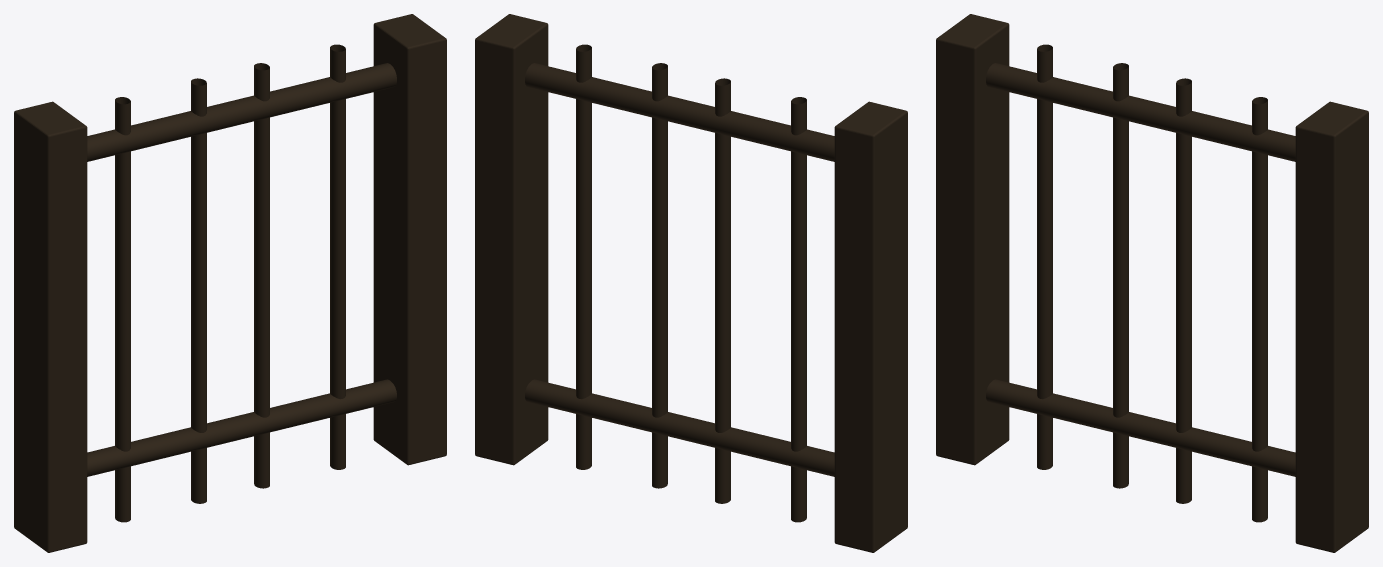
The model's file is GrataColC.fbx.
The picture shows the model from 3 angles, left to right: view 1: azimuth 30°, elevation 25°; view 2: azimuth 150°, elevation 25°; view 3: azimuth 330°, elevation 25°; orthographic projection.
Parts seen in each view (by area): view 1: Cube.007, Cube.009, GrataColC; view 2: Cube.007, Cube.009, GrataColC; view 3: Cube.007, Cube.009, GrataColC.
Boxes of the visible parts, x1,y1,x2,y2 form: Cube.007: (14,14,446,552); Cube.009: (115,44,345,522); GrataColC: (87,63,396,476); Cube.007: (475,14,907,552); Cube.009: (576,44,806,522); GrataColC: (525,63,834,476); Cube.007: (936,14,1368,552); Cube.009: (1037,44,1267,522); GrataColC: (986,63,1295,476).
Size of the model in its own units: 200 by 200 by 30.
